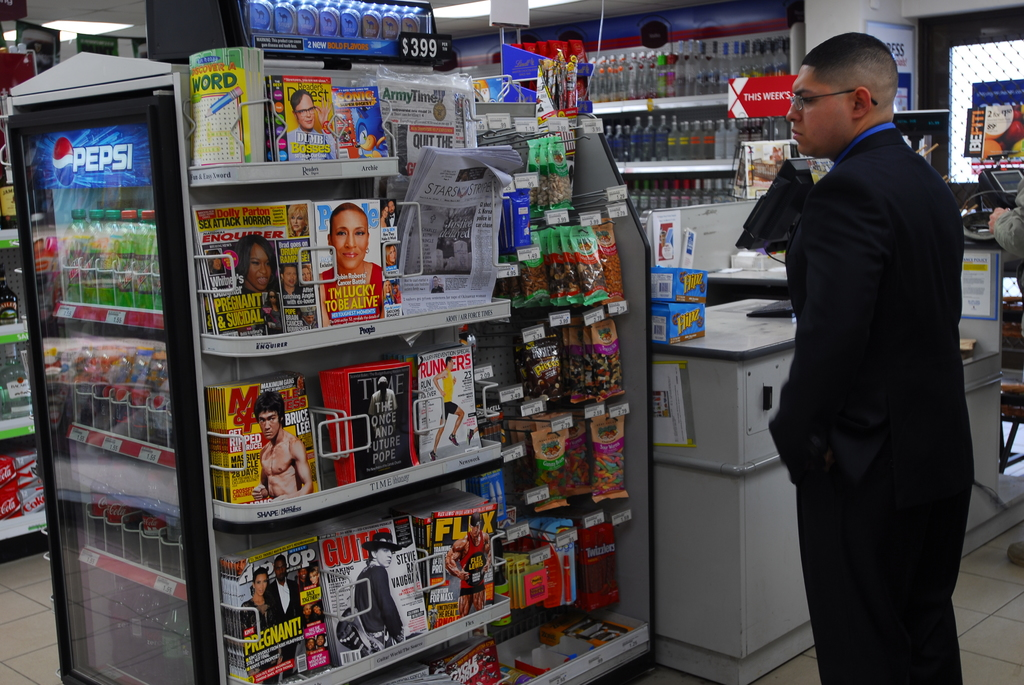refrigerator door: (11, 124, 207, 662)
